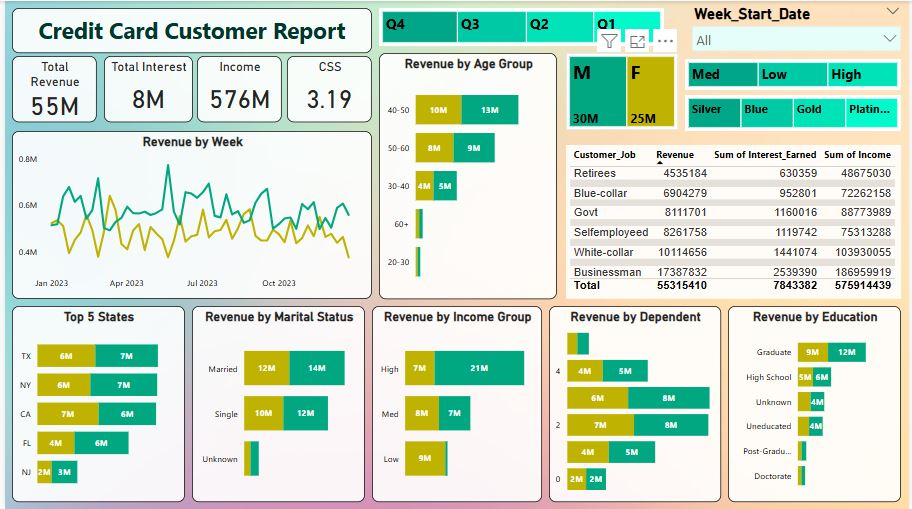

This screenshot's page, from the dashboard's own definition file:
{"tool":"powerbi","page":{"name":"Customer DB","canvas":[1280,720],"ordinal":3},"visuals":[{"type":"textbox","box":[10,10,510,64.3],"z":0},{"type":"card","title":"Total Revenue","fields":{"Values":["Sum(credit_card.Revenue)"]},"box":[10,78.6,120,94.3],"z":1000},{"type":"card","title":"Total Interest","fields":{"Values":["Sum(credit_card.Interest_Earned)"]},"box":[140,78.6,125.7,94.3],"z":2000},{"type":"card","title":"Income","fields":{"Values":["Sum(customer.Income)"]},"box":[271.4,78.6,120,94.3],"z":3000},{"type":"card","title":"CSS","fields":{"Values":["Avg(customer.Cust_Satisfaction_Score)"]},"box":[400,78.6,120,94.3],"z":4000},{"type":"tableEx","fields":{"Values":["customer.Customer_Job","Sum(credit_card.Revenue)","Sum(credit_card.Interest_Earned)","Sum(customer.Income)"]},"box":[795.1,204.1,474.8,218.3],"z":5000},{"type":"treemap","fields":{"Values":["Avg(credit_card.Client_Num)"],"Group":["credit_card.Qtr"]},"box":[530.1,9.9,403.9,53.9],"z":7000},{"type":"treemap","fields":{"Values":["Avg(credit_card.Client_Num)"],"Group":["credit_card.Card_Category"]},"box":[963.8,133.2,306.1,51],"z":8000},{"type":"treemap","fields":{"Values":["Avg(credit_card.Client_Num)"],"Group":["customer.IncomeGroup"]},"box":[963.8,82.2,306.1,43.9],"z":9000},{"type":"slicer","fields":{"Values":["credit_card.Week_Start_Date"]},"box":[963.8,0,316.1,83.6],"z":10000},{"type":"treemap","fields":{"Group":["customer.Gender"],"Values":["Sum(credit_card.Revenue)"]},"box":[795.1,73.7,158.7,109.1],"z":11000},{"type":"lineChart","title":"Revenue by Week","fields":{"Y":["Sum(credit_card.Revenue)"],"Category":["credit_card.Week_Start_Date.Variation.Date Hierarchy.Year","credit_card.Week_Start_Date.Variation.Date Hierarchy.Month","credit_card.Week_Start_Date.Variation.Date Hierarchy.Day"],"Series":["customer.Gender"]},"box":[9.9,184.3,510.2,238.1],"z":12000},{"type":"barChart","title":"Top 5 States","fields":{"Category":["customer.state_cd"],"Y":["Sum(credit_card.Revenue)"],"Series":["customer.Gender"]},"box":[9.9,432.3,245,277.8],"z":12001},{"type":"barChart","title":"Revenue by Education","fields":{"Y":["Sum(credit_card.Revenue)"],"Series":["customer.Gender"],"Category":["customer.Education_Level"]},"box":[1024.7,432.3,245.2,277.8],"z":12002},{"type":"barChart","title":"Revenue by Dependent","fields":{"Y":["Sum(credit_card.Revenue)"],"Series":["customer.Gender"],"Category":["customer.Dependent_Count"]},"box":[771,432.3,243.8,277.8],"z":12003},{"type":"barChart","title":"Revenue by Income Group","fields":{"Y":["Sum(credit_card.Revenue)"],"Series":["customer.Gender"],"Category":["customer.IncomeGroup"]},"box":[520.2,432.3,240.9,277.8],"z":12004},{"type":"barChart","title":"Revenue by Marital Status","fields":{"Y":["Sum(credit_card.Revenue)"],"Series":["customer.Gender"],"Category":["customer.Marital_Status"]},"box":[265,432.3,245.2,277.8],"z":12005},{"type":"barChart","title":"Revenue by Age Group","fields":{"Y":["Sum(credit_card.Revenue)"],"Series":["customer.Gender"],"Category":["customer.AgeGroup"]},"box":[530.1,73.7,252.3,348.7],"z":12006}]}

Visuals, with their boxes in screenshot pixels (x1, y1, x2, y2), scaled from the page's 1280x720 canvas onto the 912x509 screenshot:
textbox: BBox(7, 7, 370, 53)
"Total Revenue" card: BBox(7, 56, 93, 122)
"Total Interest" card: BBox(100, 56, 189, 122)
"Income" card: BBox(193, 56, 279, 122)
"CSS" card: BBox(285, 56, 370, 122)
tableEx - customer.Customer_Job x Sum(credit_card.Revenue): BBox(567, 144, 905, 299)
treemap - Avg(credit_card.Client_Num) x credit_card.Qtr: BBox(378, 7, 665, 45)
treemap - Avg(credit_card.Client_Num) x credit_card.Card_Category: BBox(687, 94, 905, 130)
treemap - Avg(credit_card.Client_Num) x customer.IncomeGroup: BBox(687, 58, 905, 89)
slicer - credit_card.Week_Start_Date: BBox(687, 0, 911, 59)
treemap - customer.Gender x Sum(credit_card.Revenue): BBox(567, 52, 680, 129)
"Revenue by Week" lineChart: BBox(7, 130, 371, 299)
"Top 5 States" barChart: BBox(7, 306, 182, 502)
"Revenue by Education" barChart: BBox(730, 306, 905, 502)
"Revenue by Dependent" barChart: BBox(549, 306, 723, 502)
"Revenue by Income Group" barChart: BBox(371, 306, 542, 502)
"Revenue by Marital Status" barChart: BBox(189, 306, 364, 502)
"Revenue by Age Group" barChart: BBox(378, 52, 557, 299)
